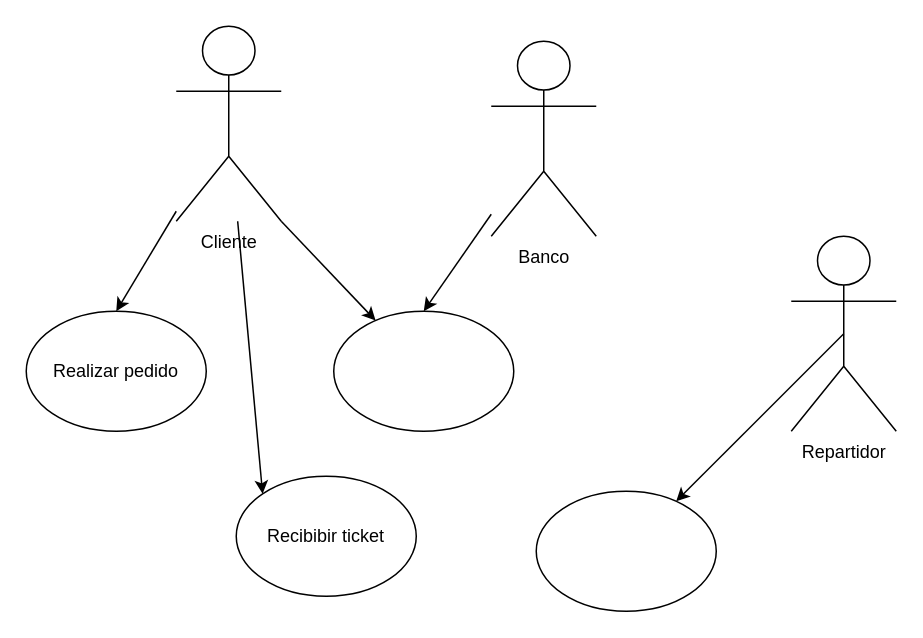
The diagram is 923 pixels wide and 638 high, and some of its shapes have lost their labels. The centre of each missing label's shape, as x and y in pixels:
Generar orden de entrega: (625,550)
Procesar pago: (423,370)
